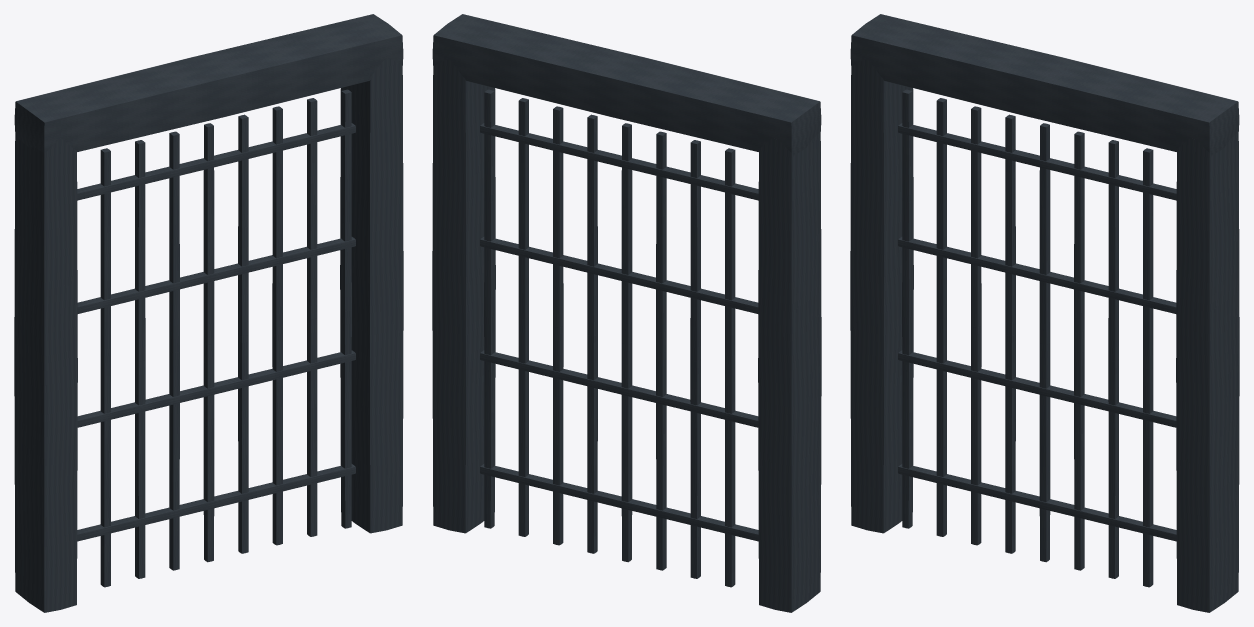
3 renders of one model, left to right at view 1: azimuth 30°, elevation 25°; view 2: azimuth 150°, elevation 25°; view 3: azimuth 330°, elevation 25°, orthographic.
Visible parts, largest first — view 1: iron.0, iron.1, iron.2, iron.7, iron.11, iron.10, iron.5, iron.4, iron.8, iron.6, iron.9, iron.12 (+3 smaller); view 2: iron.0, iron.1, iron.2, iron.7, iron.11, iron.10, iron.5, iron.4, iron.8, iron.6, iron.9, iron.12 (+3 smaller); view 3: iron.1, iron.0, iron.2, iron.7, iron.3, iron.4, iron.9, iron.6, iron.10, iron.8, iron.5, iron.12 (+3 smaller).
Part boxes in pixels (left/top/right/bottom): iron.0: left=14, top=133, right=77, bottom=612; iron.1: left=340, top=58, right=403, bottom=533; iron.2: left=14, top=14, right=403, bottom=153; iron.7: left=203, top=123, right=214, bottom=562; iron.11: left=341, top=89, right=351, bottom=528; iron.10: left=307, top=98, right=317, bottom=536; iron.5: left=135, top=140, right=145, bottom=578; iron.4: left=100, top=148, right=110, bottom=587; iron.8: left=238, top=114, right=248, bottom=553; iron.6: left=169, top=131, right=179, bottom=570; iron.9: left=272, top=106, right=282, bottom=545; iron.12: left=77, top=464, right=355, bottom=541; iron.0: left=758, top=132, right=821, bottom=612; iron.1: left=432, top=59, right=495, bottom=533; iron.2: left=432, top=14, right=821, bottom=155; iron.7: left=621, top=123, right=632, bottom=562; iron.11: left=484, top=89, right=494, bottom=528; iron.10: left=518, top=98, right=528, bottom=536; iron.5: left=690, top=140, right=700, bottom=578; iron.4: left=725, top=148, right=735, bottom=587; iron.8: left=587, top=114, right=597, bottom=553; iron.6: left=656, top=131, right=666, bottom=570; iron.9: left=553, top=106, right=563, bottom=545; iron.12: left=480, top=464, right=758, bottom=541; iron.1: left=1176, top=132, right=1239, bottom=612; iron.0: left=850, top=59, right=913, bottom=533; iron.2: left=850, top=14, right=1239, bottom=155; iron.7: left=1039, top=123, right=1050, bottom=562; iron.3: left=902, top=89, right=912, bottom=528; iron.4: left=936, top=98, right=946, bottom=536; iron.9: left=1108, top=140, right=1118, bottom=578; iron.6: left=1005, top=114, right=1015, bottom=553; iron.10: left=1143, top=148, right=1153, bottom=587; iron.8: left=1074, top=131, right=1084, bottom=570; iron.5: left=971, top=106, right=981, bottom=545; iron.12: left=898, top=464, right=1176, bottom=541.
Bounding box in the file's own units: 2 × 2.61 × 0.3.
Materials: 1 (1 with a texture image).
